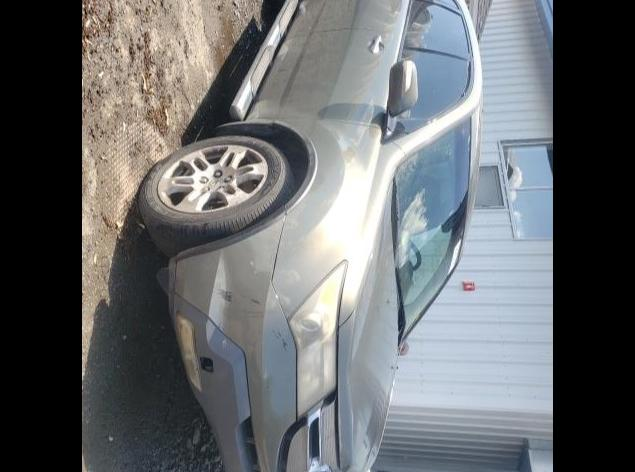Missing part: (199, 356, 212, 372)
Paint chip: (270, 326, 290, 354), (214, 286, 238, 302), (238, 292, 262, 306)
